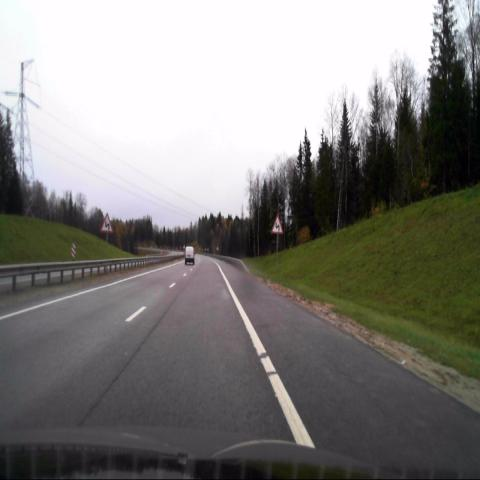1_12_2: (100, 213, 113, 233), (271, 214, 283, 234)
